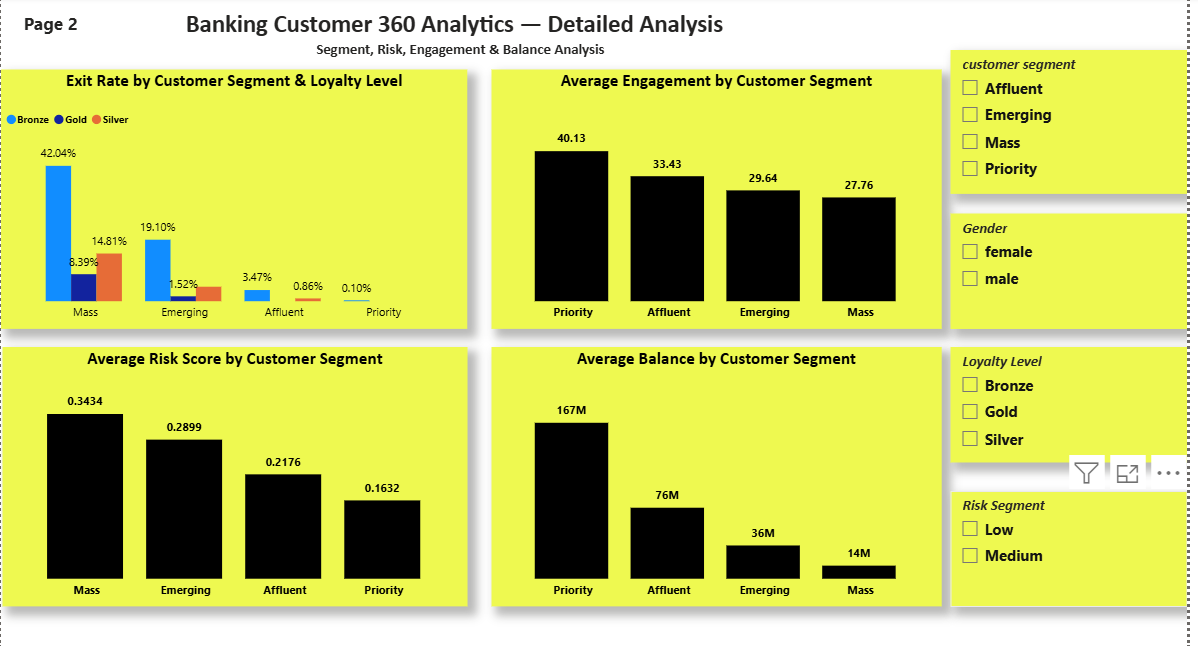

This screenshot's page, from the dashboard's own definition file:
{"tool":"powerbi","page":{"name":"Dashboard Page 2","canvas":[1280,720],"ordinal":1},"visuals":[{"type":"clusteredColumnChart","title":"Exit Rate by Customer Segment & Loyalty Level","fields":{"Category":["bank_churn_cleaned.customer_segment"],"Y":["bank_churn_cleaned.Exit Rate"],"Series":["bank_churn_cleaned.loyalty_level"]},"box":[0,79.3,503.6,280.1],"z":0},{"type":"clusteredColumnChart","title":"Average Engagement by Customer Segment","fields":{"Category":["bank_churn_cleaned.customer_segment"],"Y":["bank_churn_cleaned.Averagee Engagement"]},"box":[529.5,79.3,485.8,280.1],"z":1000},{"type":"clusteredColumnChart","title":"Average Risk Score by Customer Segment","fields":{"Category":["bank_churn_cleaned.customer_segment"],"Y":["bank_churn_cleaned.Average Risk Score"]},"box":[1.6,378.9,502,280.1],"z":2000},{"type":"clusteredColumnChart","title":"Average Balance by Customer Segment","fields":{"Category":["bank_churn_cleaned.customer_segment"],"Y":["bank_churn_cleaned.Average Balance"]},"box":[529.5,378.9,485.8,280.1],"z":3000},{"type":"slicer","fields":{"Values":["bank_churn_cleaned.customer_segment"]},"box":[1025,58.3,255.8,155.4],"z":4000},{"type":"slicer","fields":{"Values":["bank_churn_cleaned.gender"]},"box":[1025,234.8,255.8,124.7],"z":5000},{"type":"slicer","fields":{"Values":["bank_churn_cleaned.loyalty_level"]},"box":[1025,378.9,255.8,124.7],"z":6000},{"type":"slicer","fields":{"Values":["bank_churn_cleaned.risk_segment"]},"box":[1025,534.3,255.8,124.7],"z":7000},{"type":"textbox","box":[19.4,11.3,299.6,66.4],"z":8000},{"type":"textbox","box":[194.3,8.1,728.7,50.2],"z":9000},{"type":"textbox","box":[335.2,42.1,741.6,35.6],"z":10000}]}

Visuals, with their boxes on the page's 1280x720 design canvas (x1, y1, x2, y2). These are canvas units, not pixel positions in the 1198x646 screenshot, which may show the page scaled, cropped or inside an application window:
"Exit Rate by Customer Segment & Loyalty Level" clusteredColumnChart: <bbox>0, 79, 504, 359</bbox>
"Average Engagement by Customer Segment" clusteredColumnChart: <bbox>530, 79, 1015, 359</bbox>
"Average Risk Score by Customer Segment" clusteredColumnChart: <bbox>2, 379, 504, 659</bbox>
"Average Balance by Customer Segment" clusteredColumnChart: <bbox>530, 379, 1015, 659</bbox>
slicer - bank_churn_cleaned.customer_segment: <bbox>1025, 58, 1281, 214</bbox>
slicer - bank_churn_cleaned.gender: <bbox>1025, 235, 1281, 360</bbox>
slicer - bank_churn_cleaned.loyalty_level: <bbox>1025, 379, 1281, 504</bbox>
slicer - bank_churn_cleaned.risk_segment: <bbox>1025, 534, 1281, 659</bbox>
textbox: <bbox>19, 11, 319, 78</bbox>
textbox: <bbox>194, 8, 923, 58</bbox>
textbox: <bbox>335, 42, 1077, 78</bbox>
